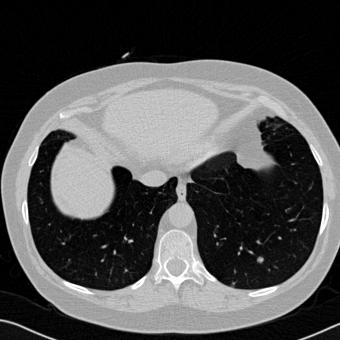nodule: (256, 256, 264, 264)
